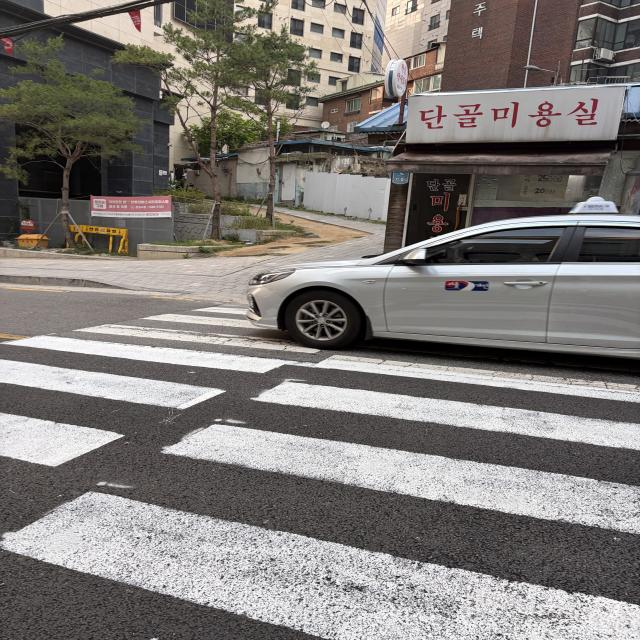car: (239, 175, 640, 392)
